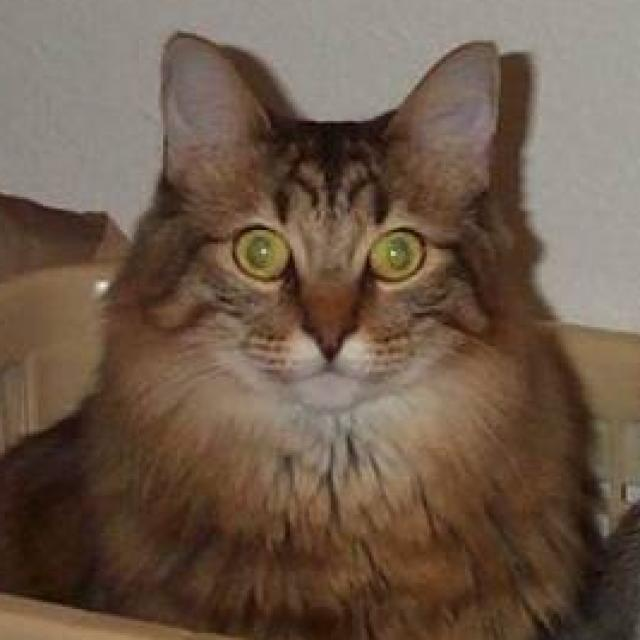Maine Coon: (0, 28, 594, 639)
